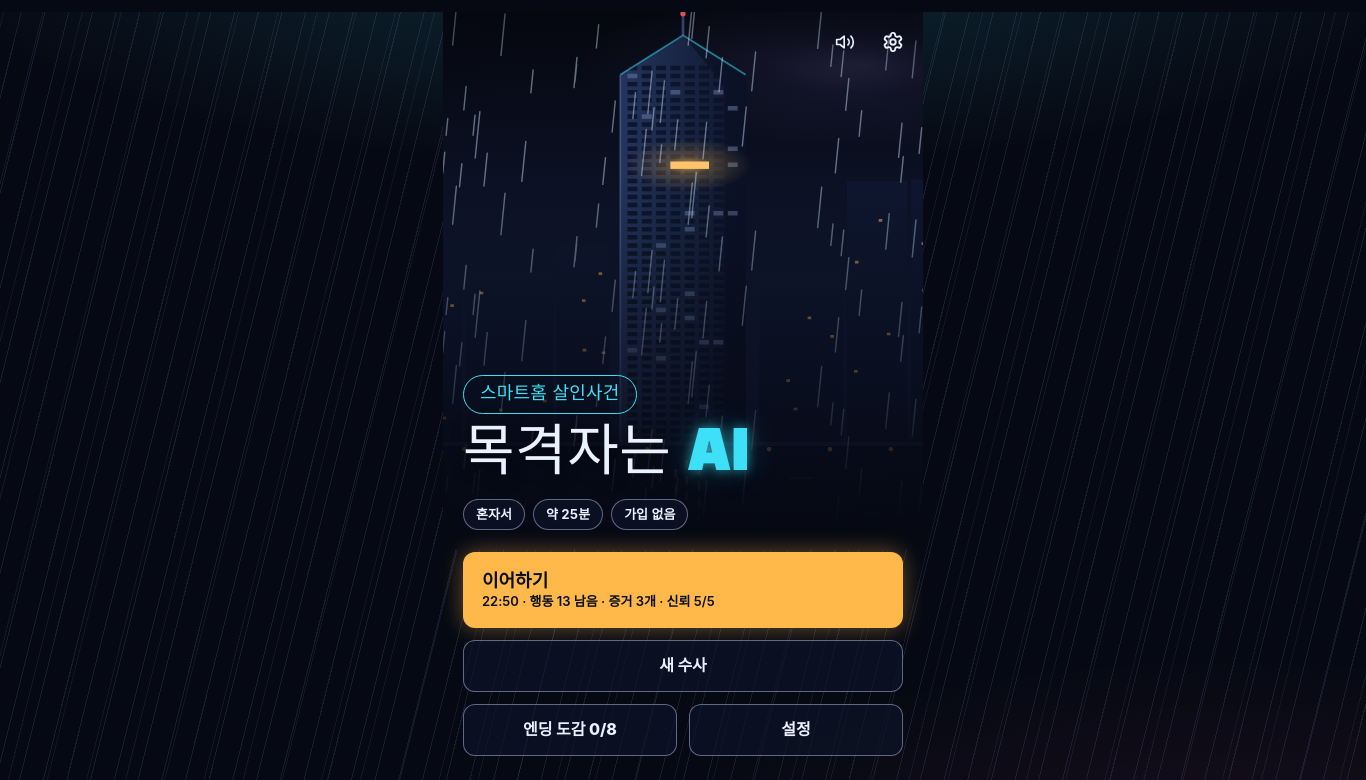
Test: 새로고침 복원 › 허브에서 마지막으로 본 탭이 복원된다
The width and height of the screenshot is (1366, 780).
What coordinates should you click on to do the following:
click the button with test id "title-resume"
I would click on:
 (683, 590)
Its box is 463,552 -> 903,628.
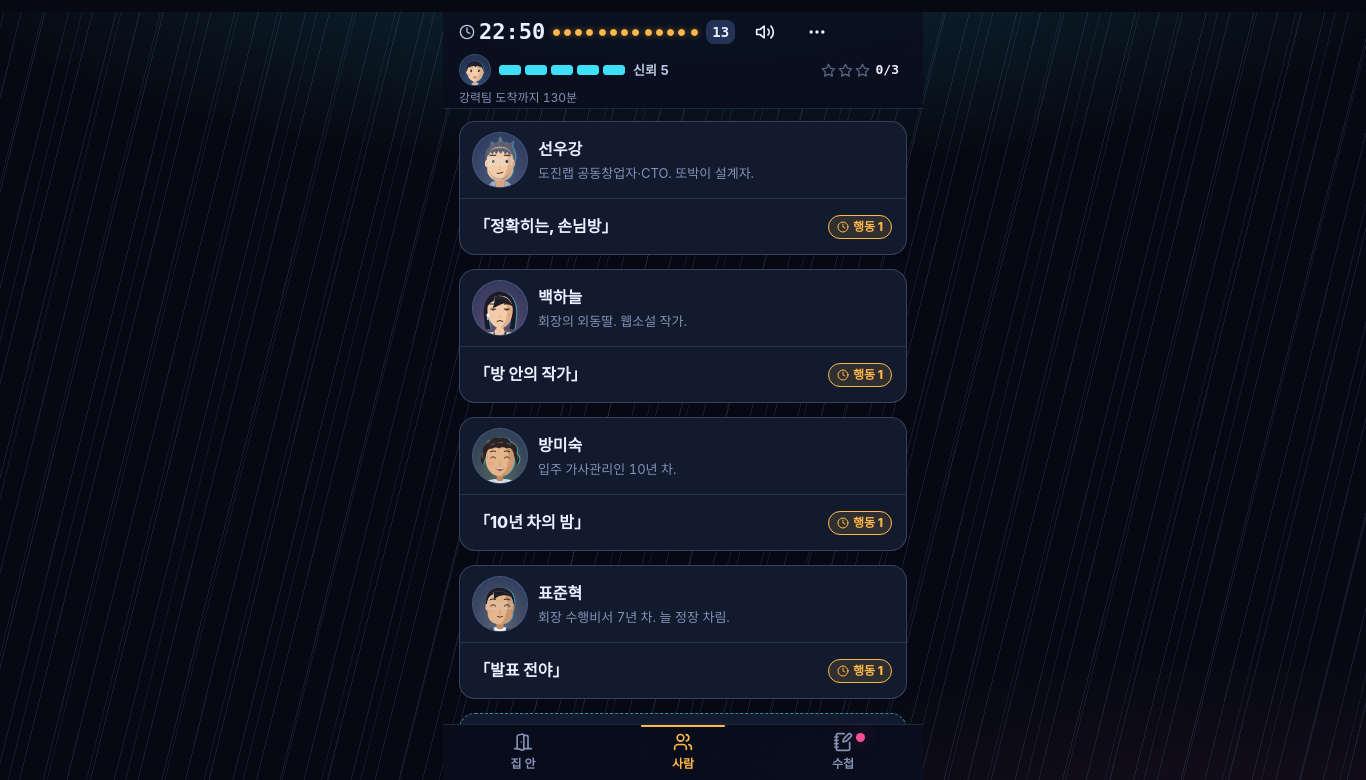
Check: the element with class "wt-people" is shown, box 459,117 -> 907,724
Check: the button with class "wt-tab" reads "사람", box 603,725 -> 763,779
